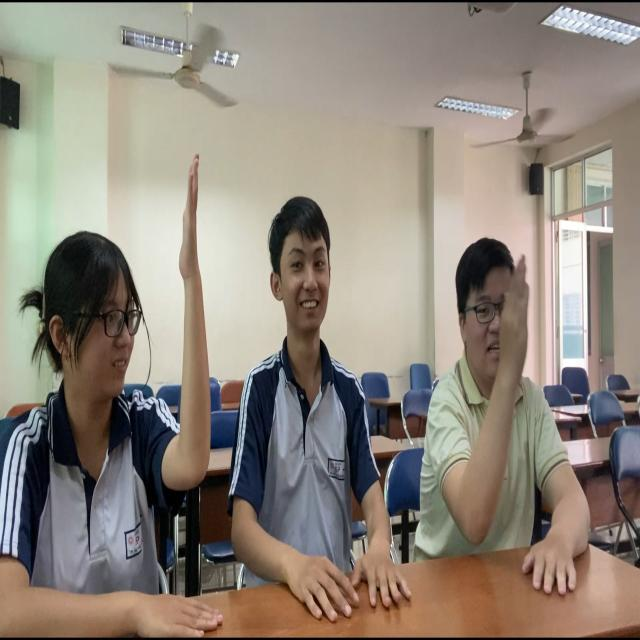raise_hand: (8, 142, 222, 625), (408, 228, 635, 579)
